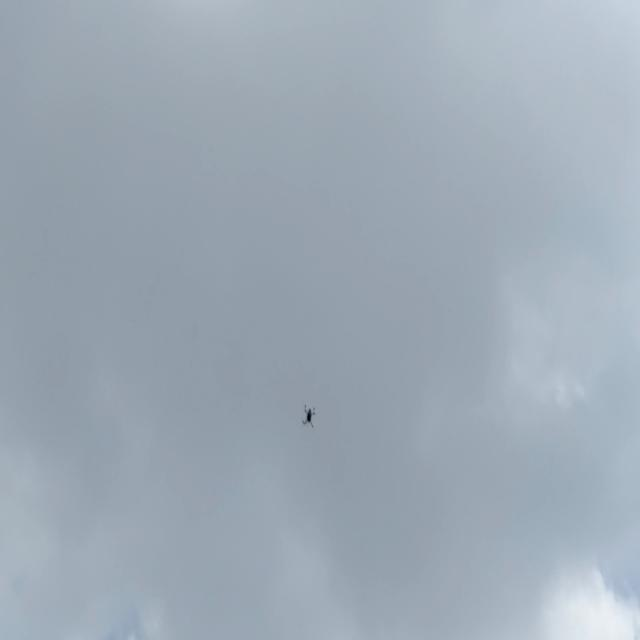drone: (298, 399, 318, 429)
